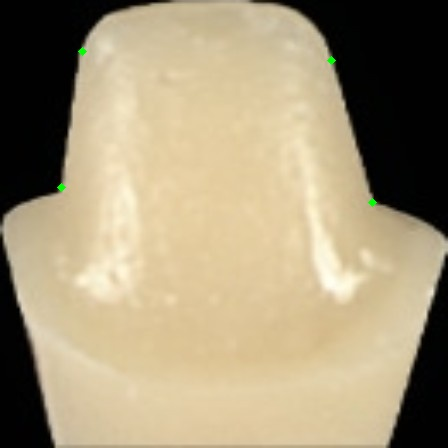coin_1: (61, 187, 81, 207)
coin_2: (82, 51, 102, 71)
coin_3: (372, 202, 392, 222)
coin_4: (331, 60, 351, 80)
